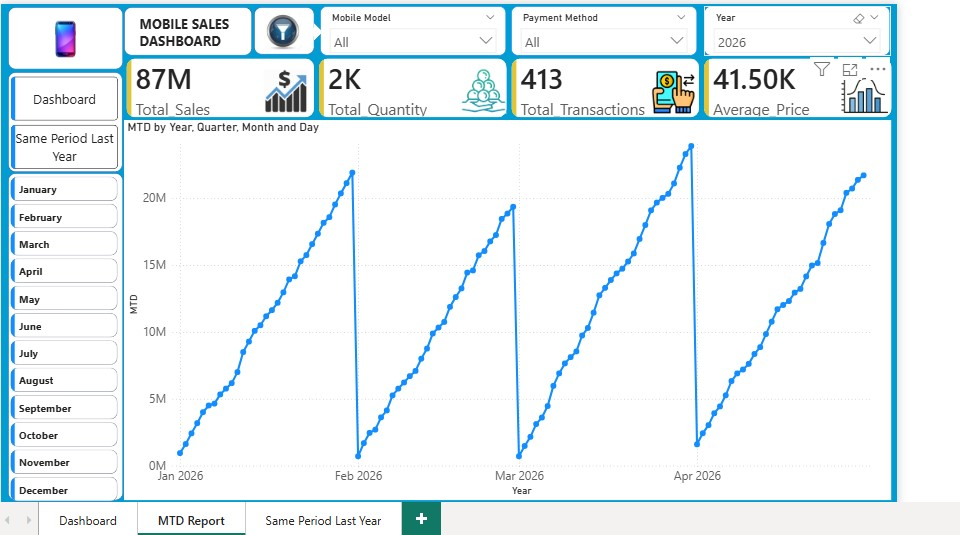

This screenshot's page, from the dashboard's own definition file:
{"tool":"powerbi","page":{"name":"MTD Report","canvas":[1280,720],"ordinal":1},"visuals":[{"type":"shape","box":[9.9,4.3,164.4,89.3],"z":0},{"type":"image","box":[19,6,147,92],"z":1000},{"type":"cardVisual","fields":{"Data":["Sales_Data.Total_Sales","Sales_Data.Total_Quantity","Sales_Data.Total_Transactions","Sales_Data.Average_Price"]},"box":[174.3,72.3,1105.5,95],"z":2000},{"type":"image","box":[369.9,93.5,73.7,63.8],"z":3000},{"type":"image","box":[653.4,92.1,73.7,65.2],"z":4000},{"type":"image","box":[928.3,86.5,63.8,78],"z":5000},{"type":"image","box":[1192,90.7,85,70.9],"z":6000},{"type":"slicer","fields":{"Values":["Sales_Data.Mobile Model"]},"box":[456.4,2.8,266.5,70.9],"z":7000},{"type":"slicer","fields":{"Values":["Sales_Data.Payment Method"]},"box":[728.5,2.8,266.5,70.9],"z":8000},{"type":"slicer","fields":{"Values":["Custom_Calender.Date.Variation.Date Hierarchy.Year"]},"box":[1004.9,2.8,266.5,70.9],"z":9000},{"type":"shape","box":[361.4,4.3,86.5,68],"z":10000},{"type":"image","box":[364.3,9.9,76.5,56.7],"z":11000},{"type":"shape","box":[426.6,26.9,32.6,25.5],"z":12000},{"type":"shape","box":[175.7,4.3,183,69.4],"z":13000},{"type":"textbox","box":[192.8,9.9,150.2,59.5],"z":14000},{"type":"lineChart","fields":{"Y":["Sales_Data.MTD"],"Category":["Custom_Calender.Date.Variation.Date Hierarchy.Year","Custom_Calender.Date.Variation.Date Hierarchy.Quarter","Custom_Calender.Date.Variation.Date Hierarchy.Month","Custom_Calender.Date.Variation.Date Hierarchy.Day"]},"box":[175.7,165.8,1095.6,542.8],"z":15000},{"type":"shape","box":[10.1,97.1,163.8,143],"z":15001},{"type":"shape","box":[9.9,240.9,164.4,467.7],"z":15002},{"type":"advancedSlicerVisual","fields":{"Values":["Custom_Calender.Date.Variation.Date Hierarchy.Month"]},"box":[8.7,241.7,163.8,478.3],"z":15003},{"type":"pageNavigator","box":[14,98,153,137],"z":15004}]}

Visuals, with their boxes in screenshot pixels (x1, y1, x2, y2):
shape: x1=4, y1=3, x2=121, y2=66
image: x1=11, y1=4, x2=115, y2=69
cardVisual - Sales_Data.Total_Sales x Sales_Data.Total_Quantity: x1=121, y1=51, x2=902, y2=118
image: x1=259, y1=66, x2=311, y2=111
image: x1=459, y1=65, x2=511, y2=111
image: x1=654, y1=61, x2=699, y2=116
image: x1=840, y1=64, x2=900, y2=114
slicer - Sales_Data.Mobile Model: x1=320, y1=2, x2=508, y2=52
slicer - Sales_Data.Payment Method: x1=512, y1=2, x2=701, y2=52
slicer - Custom_Calender.Date.Variation.Date Hierarchy.Year: x1=708, y1=2, x2=896, y2=52
shape: x1=253, y1=3, x2=314, y2=51
image: x1=255, y1=7, x2=309, y2=47
shape: x1=299, y1=19, x2=322, y2=37
shape: x1=122, y1=3, x2=251, y2=52
textbox: x1=134, y1=7, x2=240, y2=49
lineChart - Sales_Data.MTD x Custom_Calender.Date.Variation.Date Hierarchy.Year: x1=122, y1=117, x2=896, y2=501
shape: x1=5, y1=69, x2=120, y2=170
shape: x1=4, y1=170, x2=121, y2=501
advancedSlicerVisual - Custom_Calender.Date.Variation.Date Hierarchy.Month: x1=4, y1=171, x2=119, y2=509
pageNavigator: x1=7, y1=69, x2=116, y2=166
